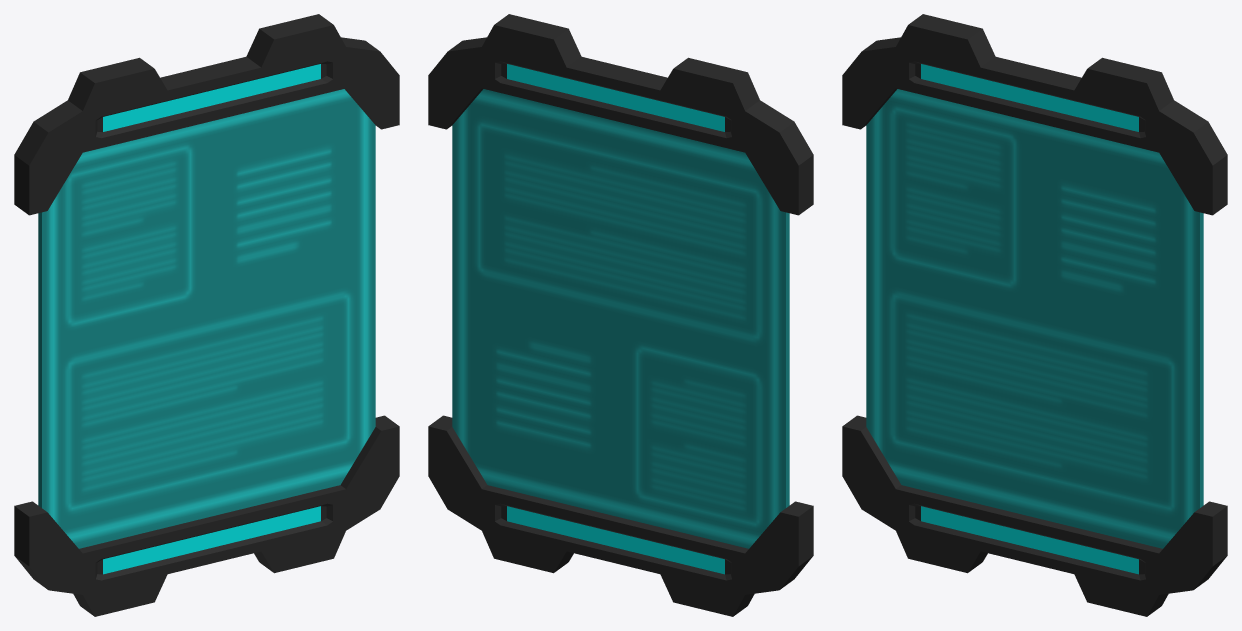
The model's file is Datapad_Black_01.fbx.
3 views of the same model, side by side, from view 1: azimuth 30°, elevation 25°; view 2: azimuth 150°, elevation 25°; view 3: azimuth 330°, elevation 25° (orthographic).
Parts seen in each view (by area): view 1: Datapad_Black_01; view 2: Datapad_Black_01; view 3: Datapad_Black_01.
Part boxes in pixels (x1,y1,x2,y2): Datapad_Black_01: [14, 14, 399, 616]; Datapad_Black_01: [428, 14, 813, 616]; Datapad_Black_01: [842, 14, 1227, 616].
Bounding box in the file's own units: 15.08 × 20.76 × 1.06.
